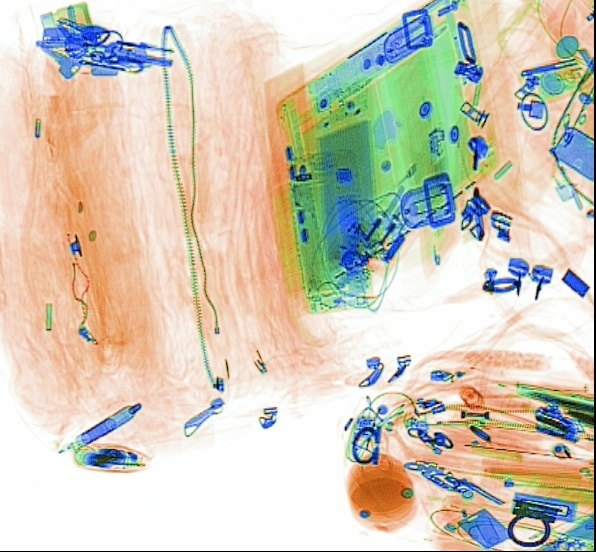powerbank: (305, 74, 381, 274)
